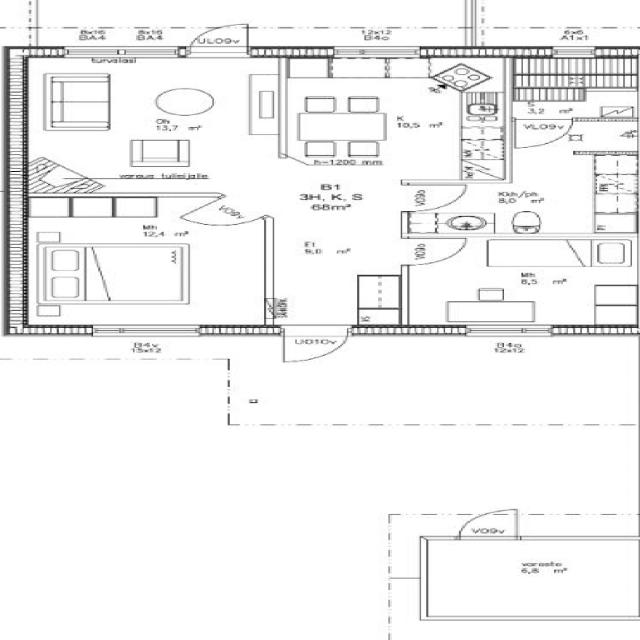door: (180, 196, 268, 237), (285, 324, 348, 366), (190, 19, 248, 58), (460, 509, 520, 540), (402, 238, 468, 265), (517, 117, 573, 148), (402, 185, 466, 212)
